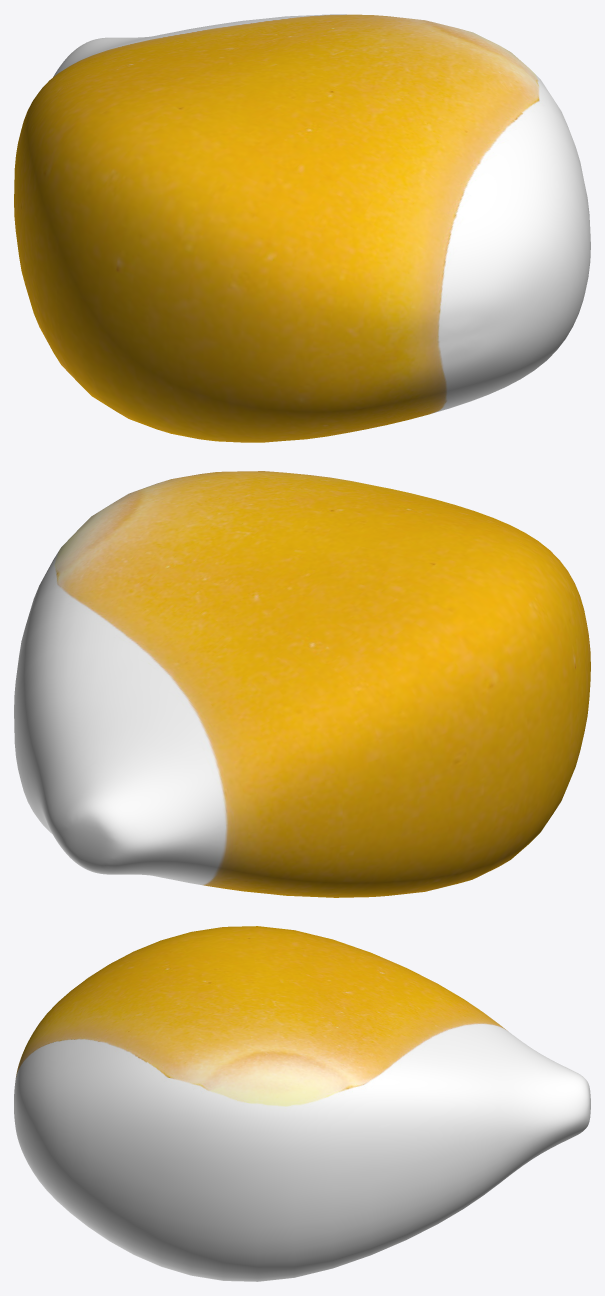
The model's file is kernel_one_seam.fbx.
3 views of the same model, one above another, from view 1: azimuth 30°, elevation 25°; view 2: azimuth 150°, elevation 25°; view 3: azimuth 270°, elevation 25° (orthographic). The views are drawn at different scales.
Parts seen in each view (by area): view 1: Corn_kernel-material.001; view 2: Corn_kernel-material.001; view 3: Corn_kernel-material.001.
Part boxes in pixels (x1,y1,x2,y2): Corn_kernel-material.001: [14, 14, 590, 442]; Corn_kernel-material.001: [14, 471, 590, 897]; Corn_kernel-material.001: [14, 926, 590, 1281].
Bounding box in the file's own units: 7.16 × 4.38 × 9.41.
1 material, 1 textured.
